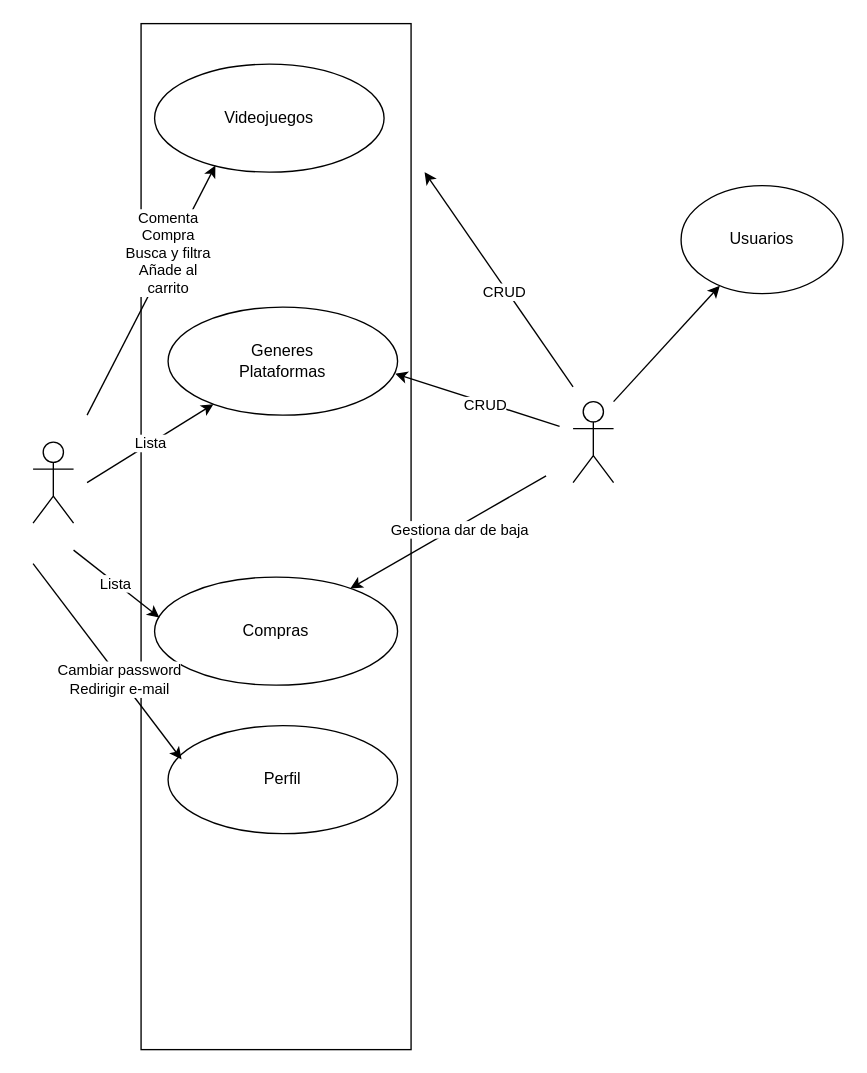
Some shapes in this 867 by 1073 pixel diagram are drawn without their labels. The centre of each missing label's shape, as x and y in pixels:
"Actor" belongs at [593,441].
"Usuario" belongs at [53,482].
